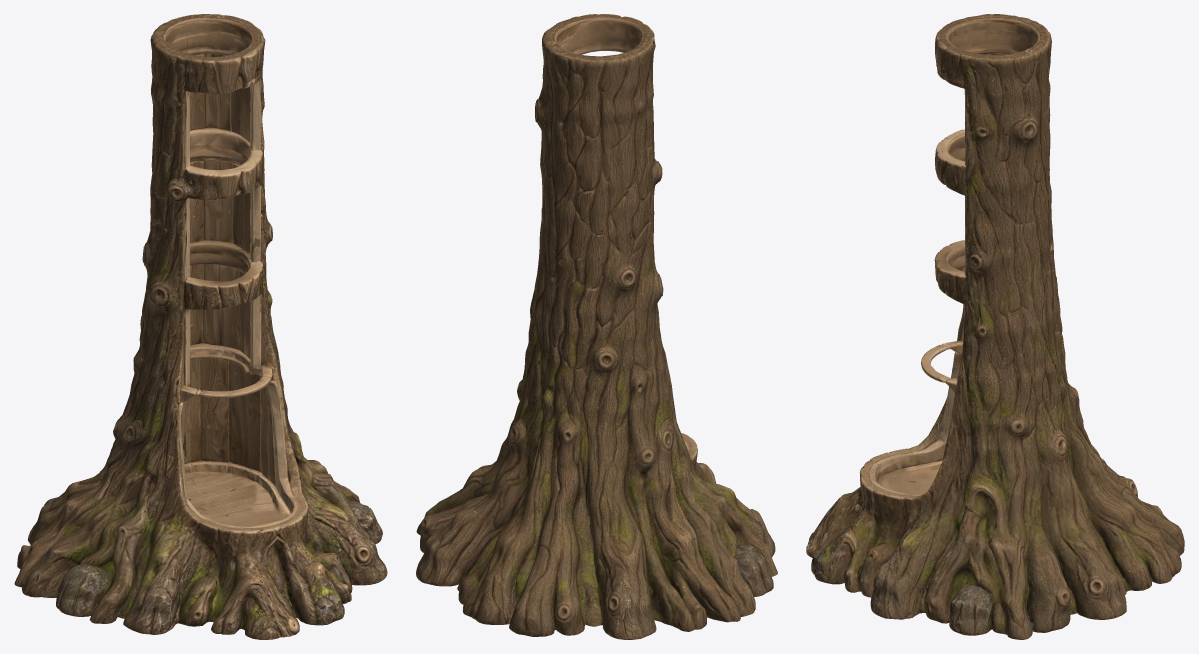
File: trunk_base.glb
3 renders of one model, left to right at view 1: azimuth 30°, elevation 25°; view 2: azimuth 150°, elevation 25°; view 3: azimuth 270°, elevation 25°, orthographic.
Size of the model in its own units: 1.28 by 1.9 by 1.25.
1 material, 1 textured.
